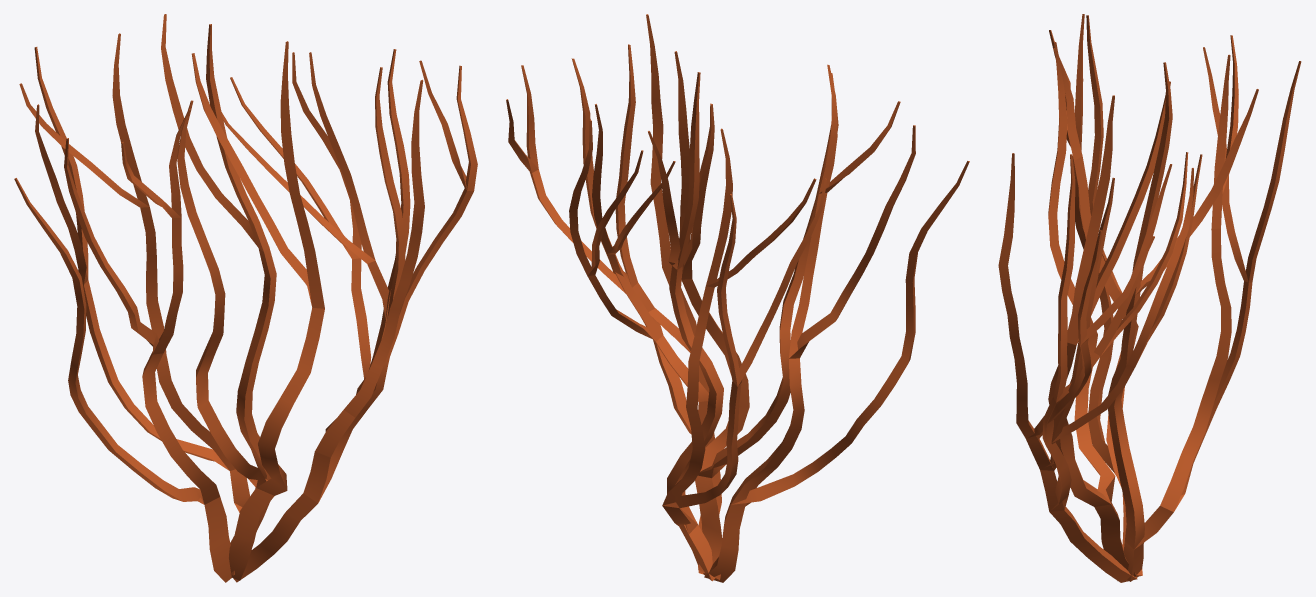
The model's file is coral_seagrass_D_raqam_medium.fbx.
3 views of the same model, side by side, from view 1: azimuth 30°, elevation 25°; view 2: azimuth 150°, elevation 25°; view 3: azimuth 270°, elevation 25° (orthographic). The views are drawn at different scales.
Visible parts, largest first — view 1: coral_seagrass_D_raqam_medium; view 2: coral_seagrass_D_raqam_medium; view 3: coral_seagrass_D_raqam_medium.
Part boxes in pixels (x1,y1,x2,y2): coral_seagrass_D_raqam_medium: (14,14,477,582); coral_seagrass_D_raqam_medium: (506,14,969,582); coral_seagrass_D_raqam_medium: (998,14,1301,582).
Size of the model in its own units: 121 by 136 by 72.06.
